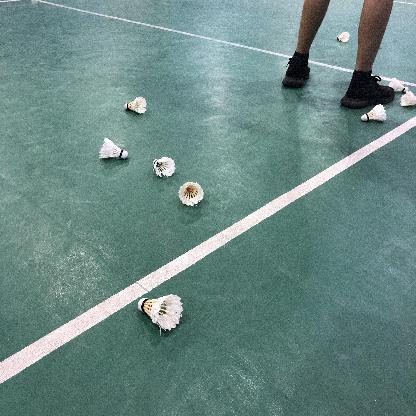ball_single: (138, 294, 183, 331), (99, 137, 128, 159), (178, 182, 204, 206), (361, 103, 387, 122), (153, 157, 175, 177), (124, 97, 147, 114), (388, 78, 409, 92), (400, 91, 416, 106), (337, 32, 349, 42)
